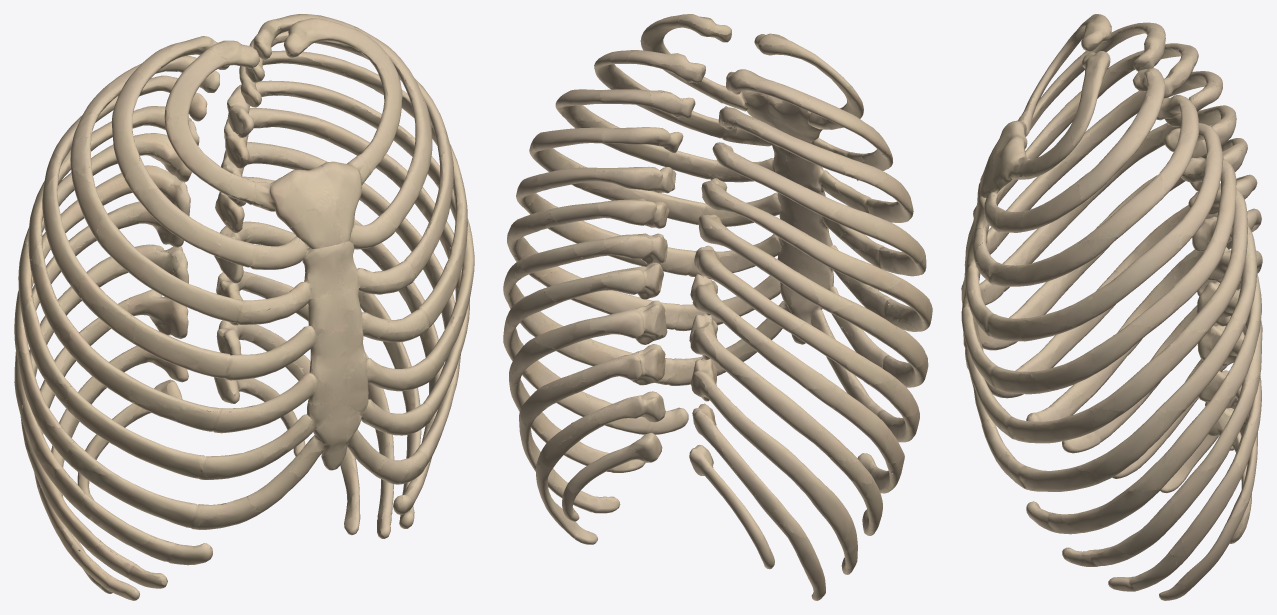
The model's file is PATIENT_Ribcage.glb.
3 renders of one model, left to right at view 1: azimuth 30°, elevation 25°; view 2: azimuth 150°, elevation 25°; view 3: azimuth 270°, elevation 25°, orthographic. The views are drawn at different scales.
Parts seen in each view (by area): view 1: PATIENT_Ribcage; view 2: PATIENT_Ribcage; view 3: PATIENT_Ribcage.
Boxes of the visible parts, x1,y1,x2,y2 form: PATIENT_Ribcage: [14, 14, 474, 600]; PATIENT_Ribcage: [503, 14, 932, 600]; PATIENT_Ribcage: [961, 14, 1262, 600].
Bounding box in the file's own units: 0.2379 × 0.3 × 0.1605.
1 material, 1 textured.
